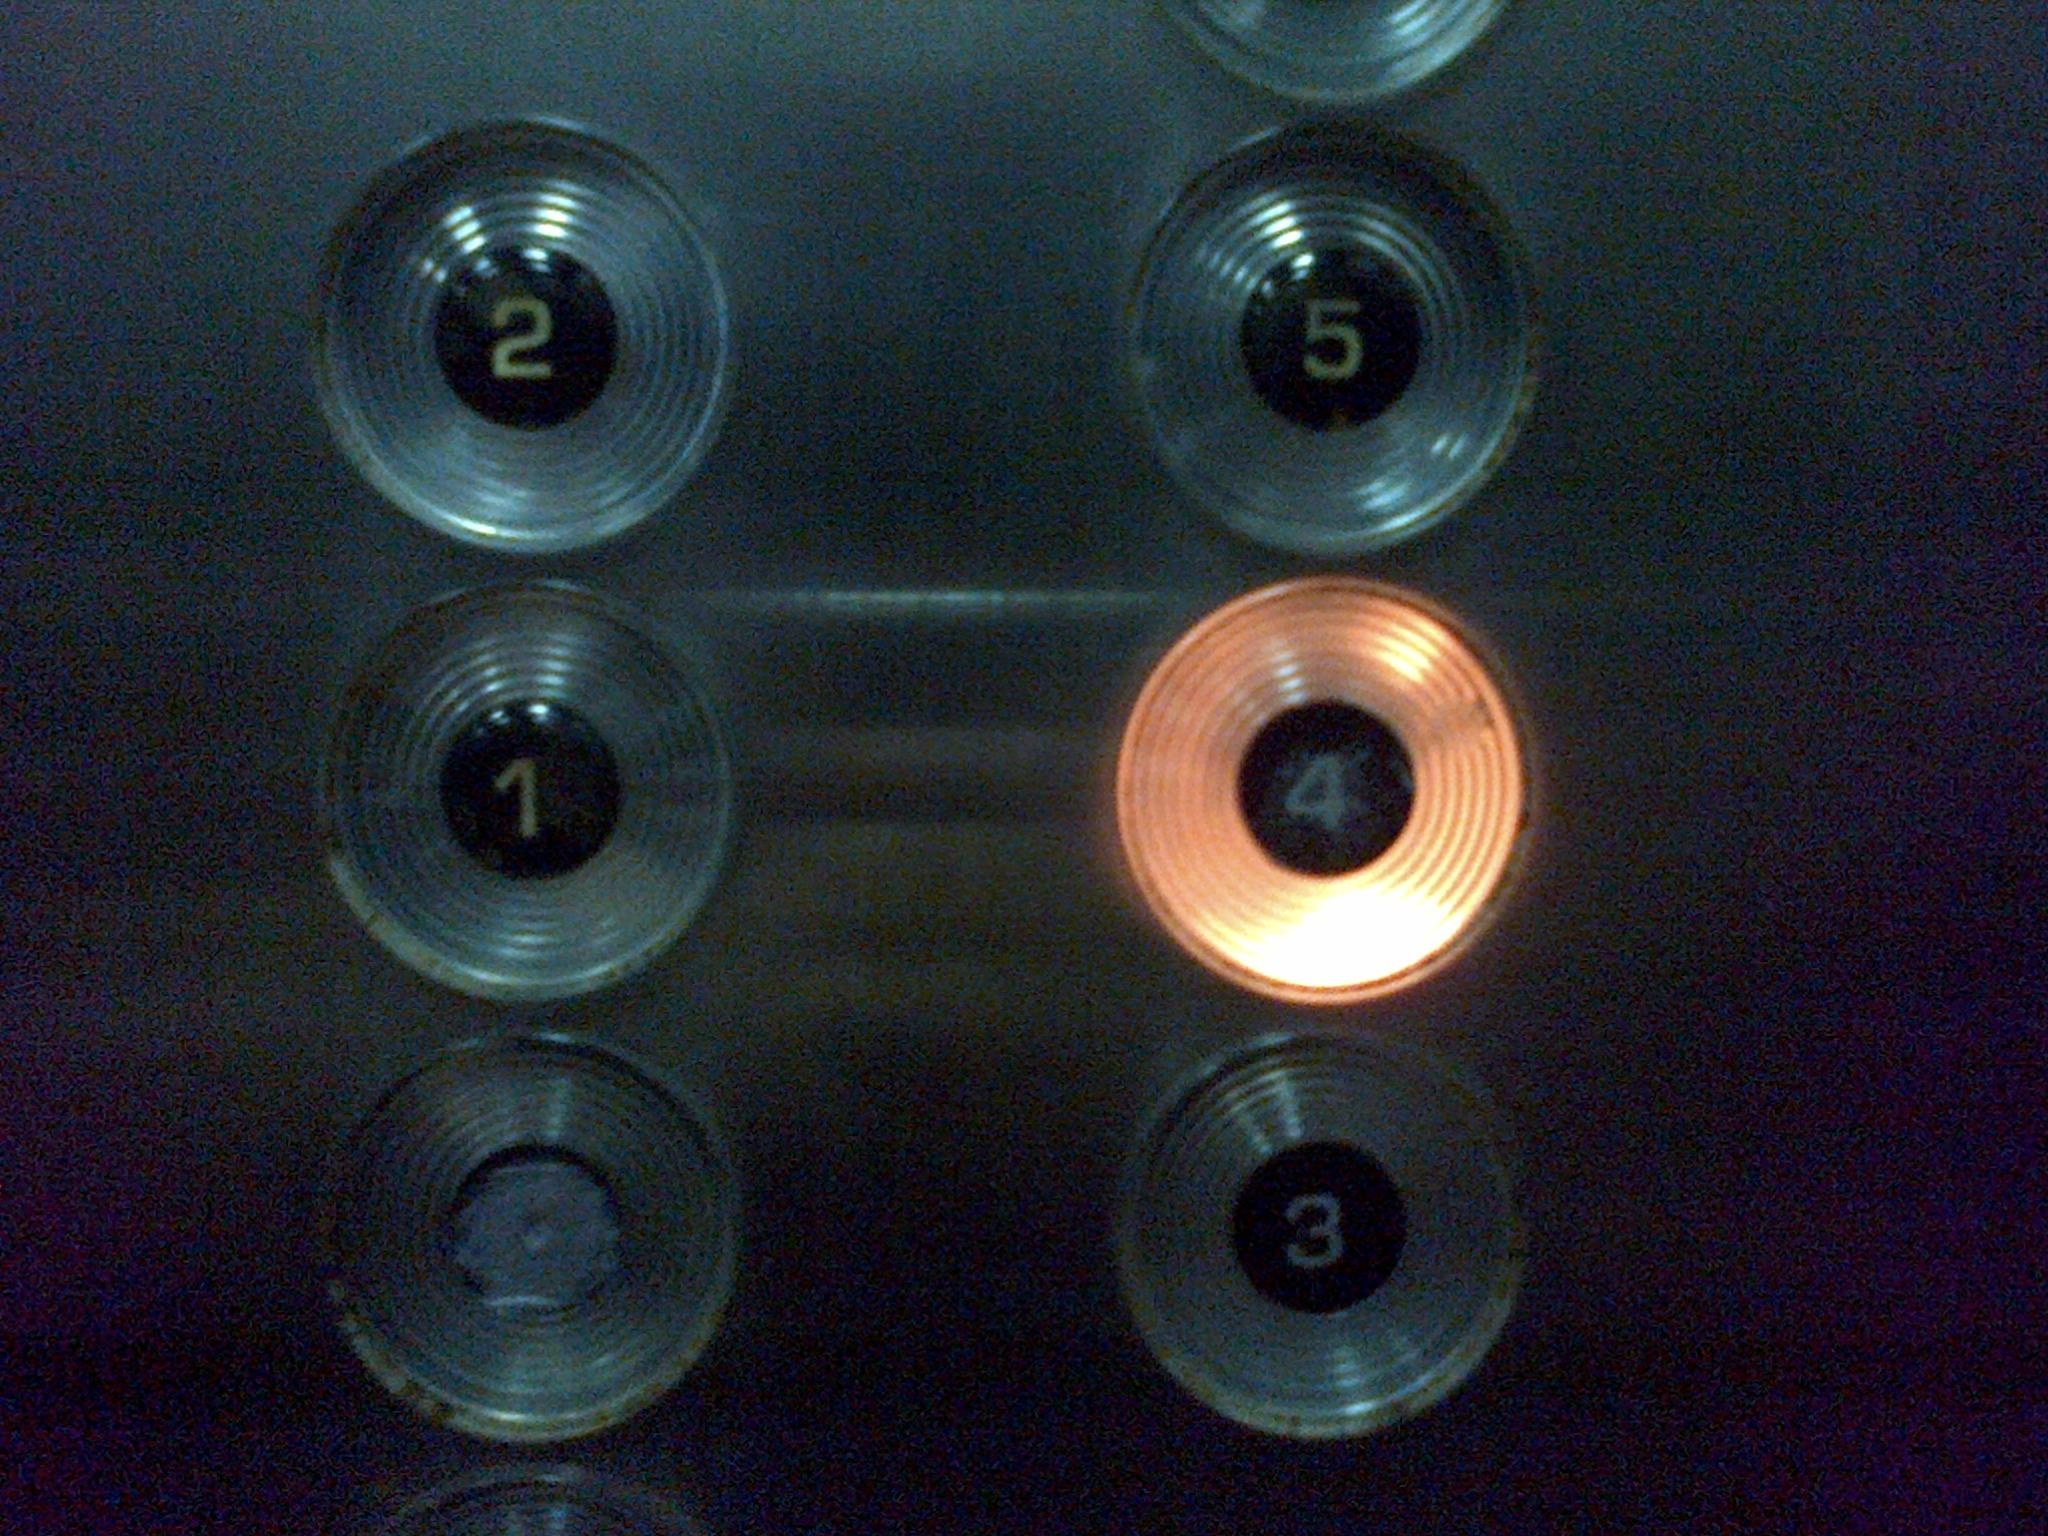1: (302, 570, 751, 1023)
2: (298, 100, 743, 566)
3: (1089, 1007, 1543, 1462)
4: (1103, 558, 1543, 1013)
5: (1113, 110, 1556, 570)
empty: (306, 1016, 763, 1467)
